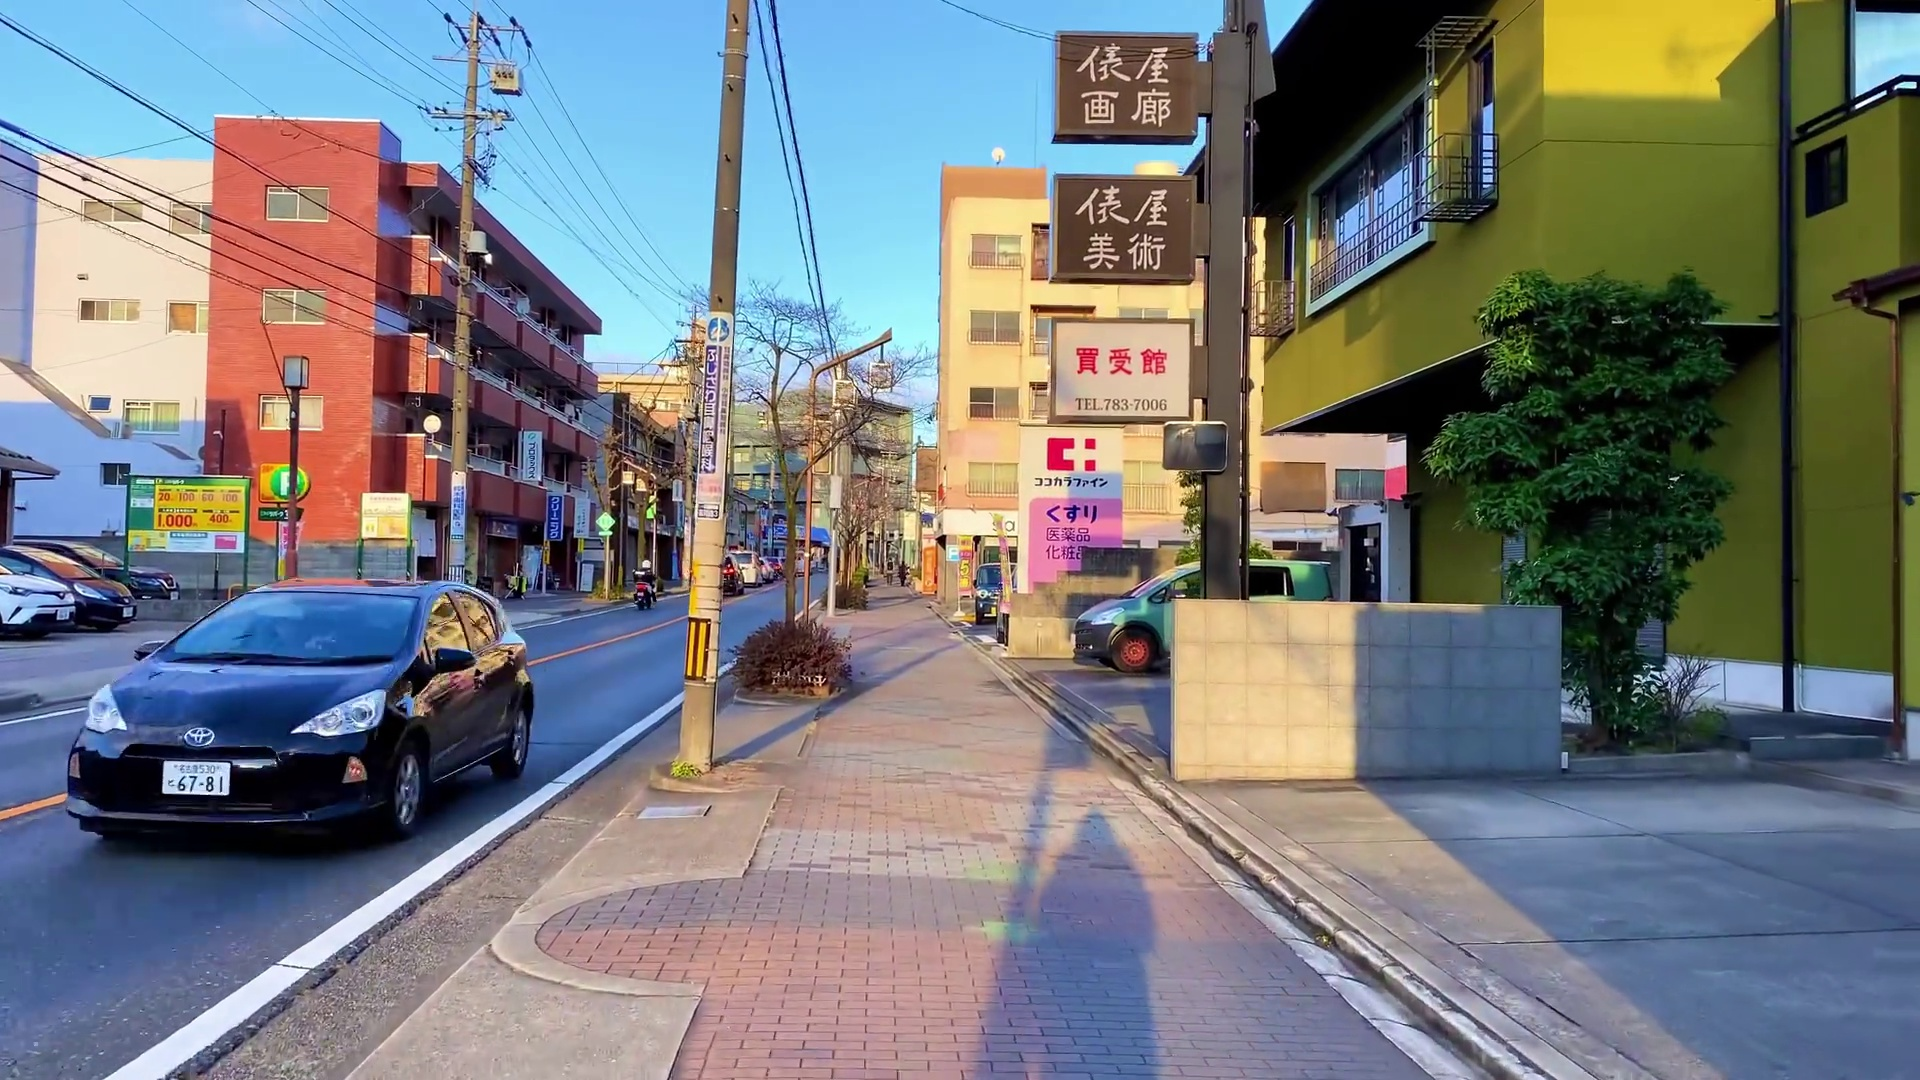car: (55, 574, 520, 849)
